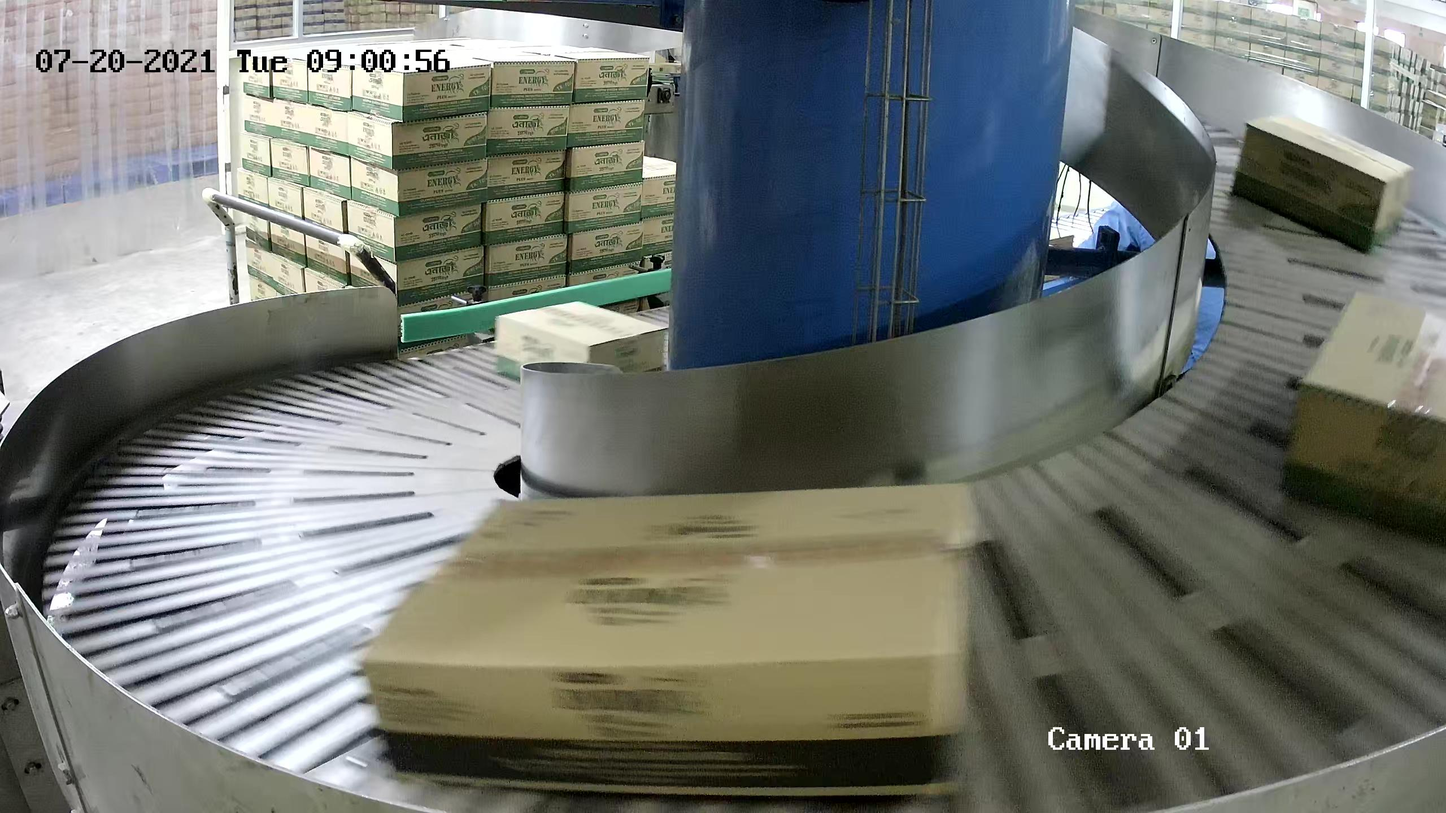Box: (359, 477, 974, 793), (1281, 288, 1446, 545), (1231, 113, 1414, 257), (494, 300, 670, 384)
